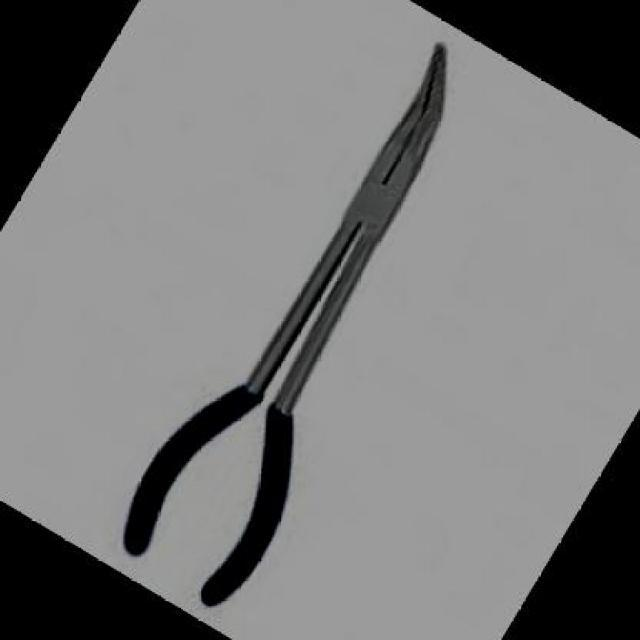pliers: (73, 7, 544, 627)
